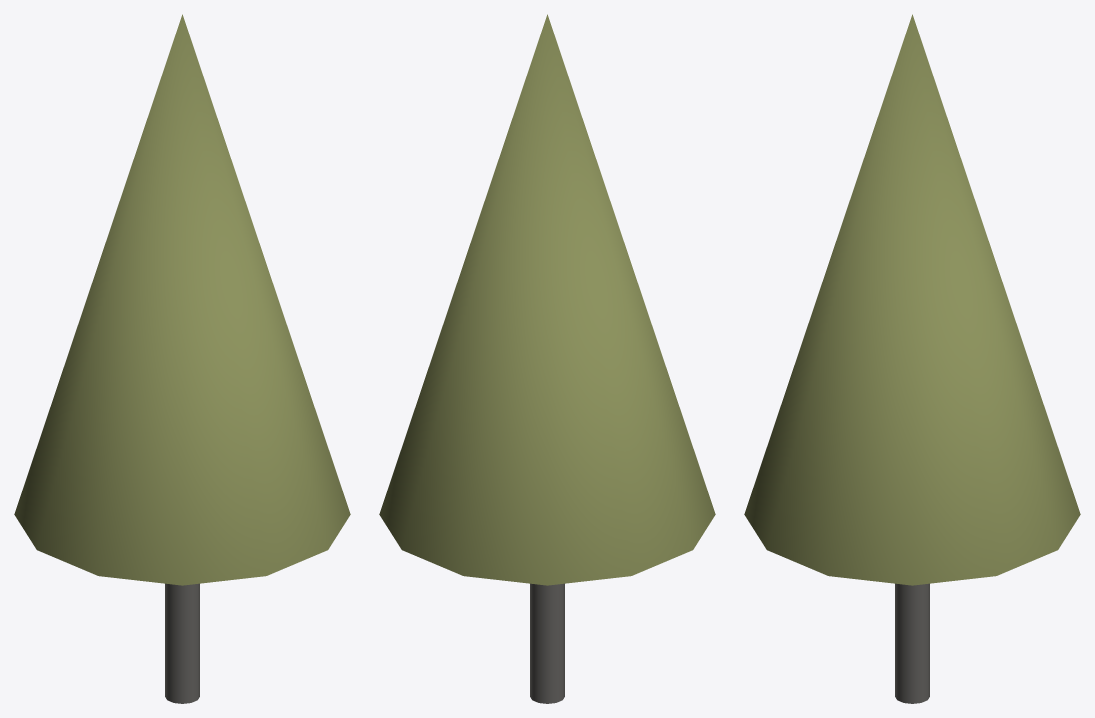
File: Balsam_Fir_Analytical_0.obj
3 views of the same model, side by side, from view 1: azimuth 30°, elevation 25°; view 2: azimuth 150°, elevation 25°; view 3: azimuth 270°, elevation 25° (orthographic).
Visible parts, largest first — view 1: AnalyticalCrown, AnalyticalTrunk; view 2: AnalyticalCrown, AnalyticalTrunk; view 3: AnalyticalCrown, AnalyticalTrunk.
Boxes of the visible parts, x1,y1,x2,y2 form: AnalyticalCrown: [14, 14, 350, 585]; AnalyticalTrunk: [165, 583, 199, 703]; AnalyticalCrown: [379, 14, 715, 585]; AnalyticalTrunk: [530, 583, 564, 703]; AnalyticalCrown: [744, 14, 1080, 585]; AnalyticalTrunk: [895, 583, 929, 703].
Bounding box in the file's own units: 6.7 × 15 × 6.7.
